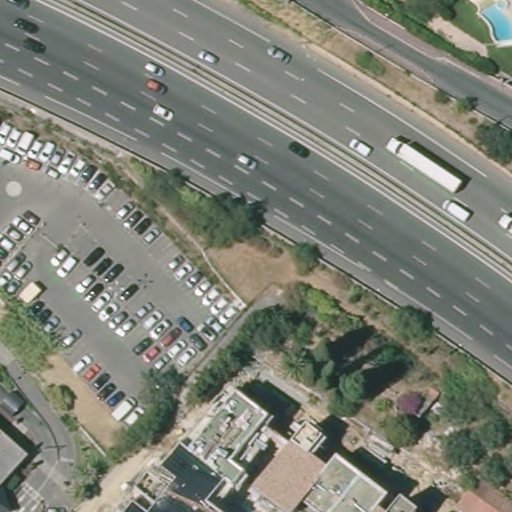pool: (478, 1, 512, 46)
